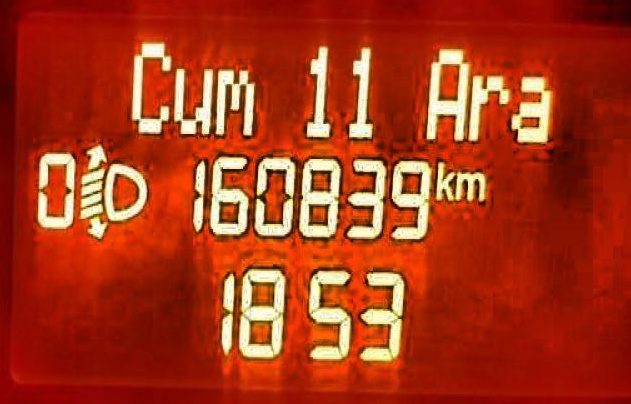0: (251, 152, 295, 238), (34, 145, 76, 230)
1: (300, 38, 335, 142), (342, 37, 375, 142), (211, 265, 236, 359), (185, 152, 205, 237)
3: (356, 265, 405, 365), (343, 152, 384, 240)
5: (303, 264, 353, 364)
6: (206, 152, 250, 238)
8: (235, 262, 288, 362), (299, 154, 339, 240)
9: (387, 153, 430, 242)
X: (125, 33, 171, 137), (422, 40, 468, 142), (212, 62, 258, 138), (510, 68, 554, 147), (173, 60, 212, 139), (469, 70, 509, 142), (456, 164, 484, 204), (434, 152, 454, 203)
